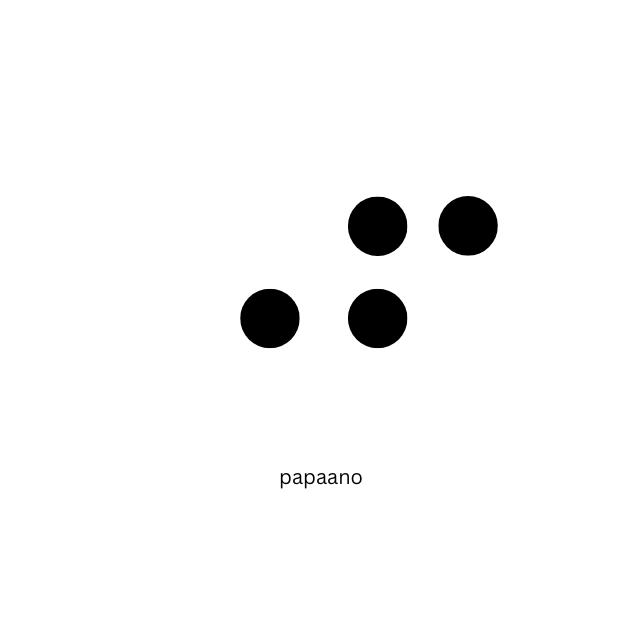dot_5: (153, 199, 301, 425)
two_cell_alphabet_papaano: (348, 195, 496, 421)
